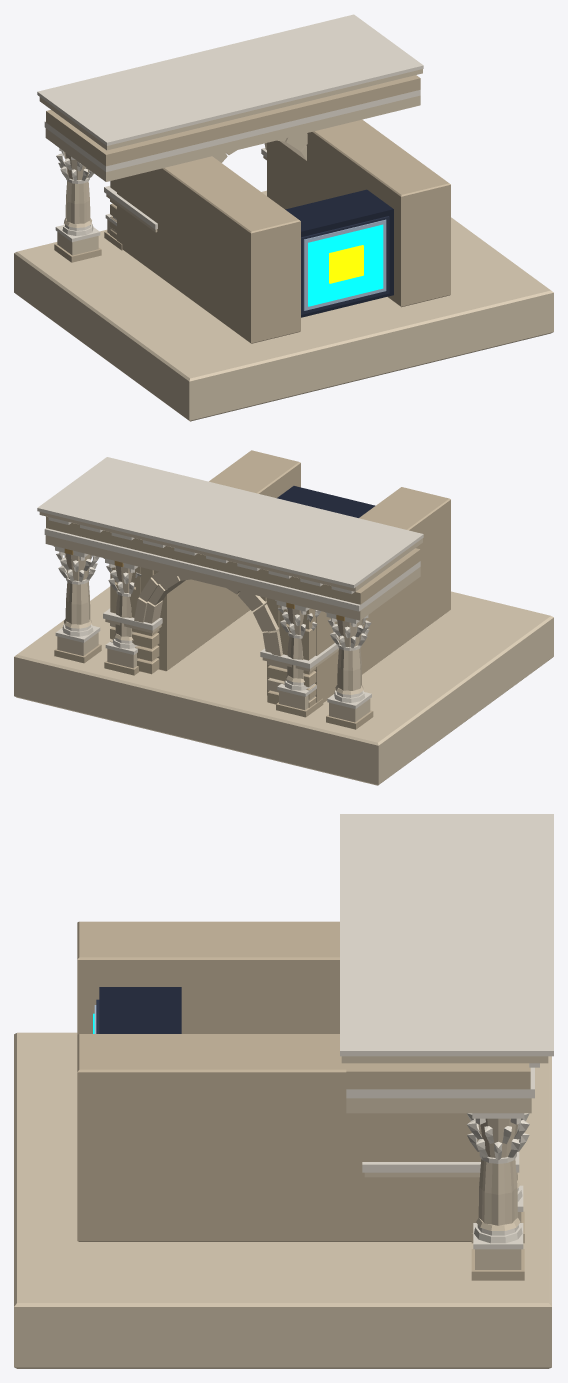
The model's file is UMOD_05_North_Imperial_Reactor_Crest.glb.
3 renders of one model, top to bottom at view 1: azimuth 30°, elevation 25°; view 2: azimuth 150°, elevation 25°; view 3: azimuth 270°, elevation 25°, orthographic. The views are drawn at different scales.
Parts seen in each view (by area): view 1: UMOD_05_North_Imperial_Reactor_Crest; view 2: UMOD_05_North_Imperial_Reactor_Crest; view 3: UMOD_05_North_Imperial_Reactor_Crest.
Part boxes in pixels (x1,y1,x2,y2): UMOD_05_North_Imperial_Reactor_Crest: [14, 14, 553, 421]; UMOD_05_North_Imperial_Reactor_Crest: [14, 450, 553, 785]; UMOD_05_North_Imperial_Reactor_Crest: [14, 814, 553, 1368].
Bounding box in the file's own units: 20.4 × 10.5 × 17.06.
